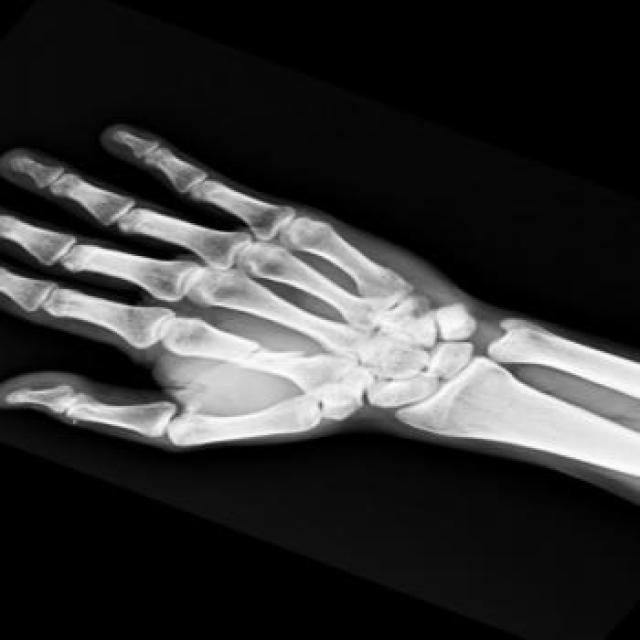Fracture: (231, 342, 276, 366)
